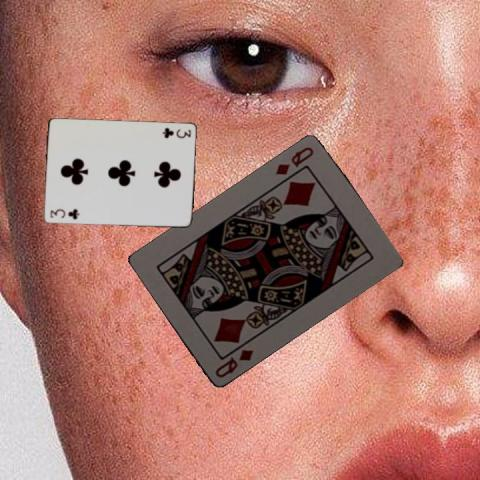3c: (47, 206, 80, 221), (159, 125, 192, 139)
Qd: (272, 144, 316, 177), (212, 347, 255, 380)
